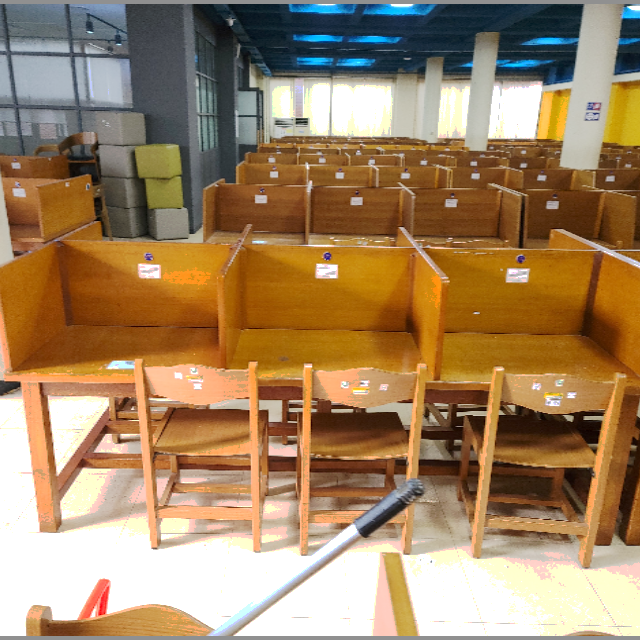empty: (231, 227, 436, 453), (12, 235, 223, 437), (444, 247, 640, 453)
